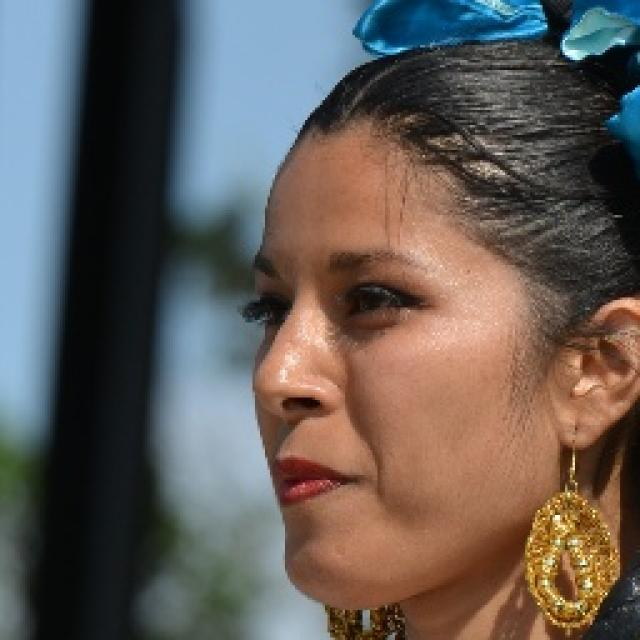earlobe: (558, 398, 605, 452)
eye: (344, 284, 411, 319), (254, 297, 290, 321)
nose: (274, 404, 326, 453)
wholeear: (557, 295, 640, 450)
